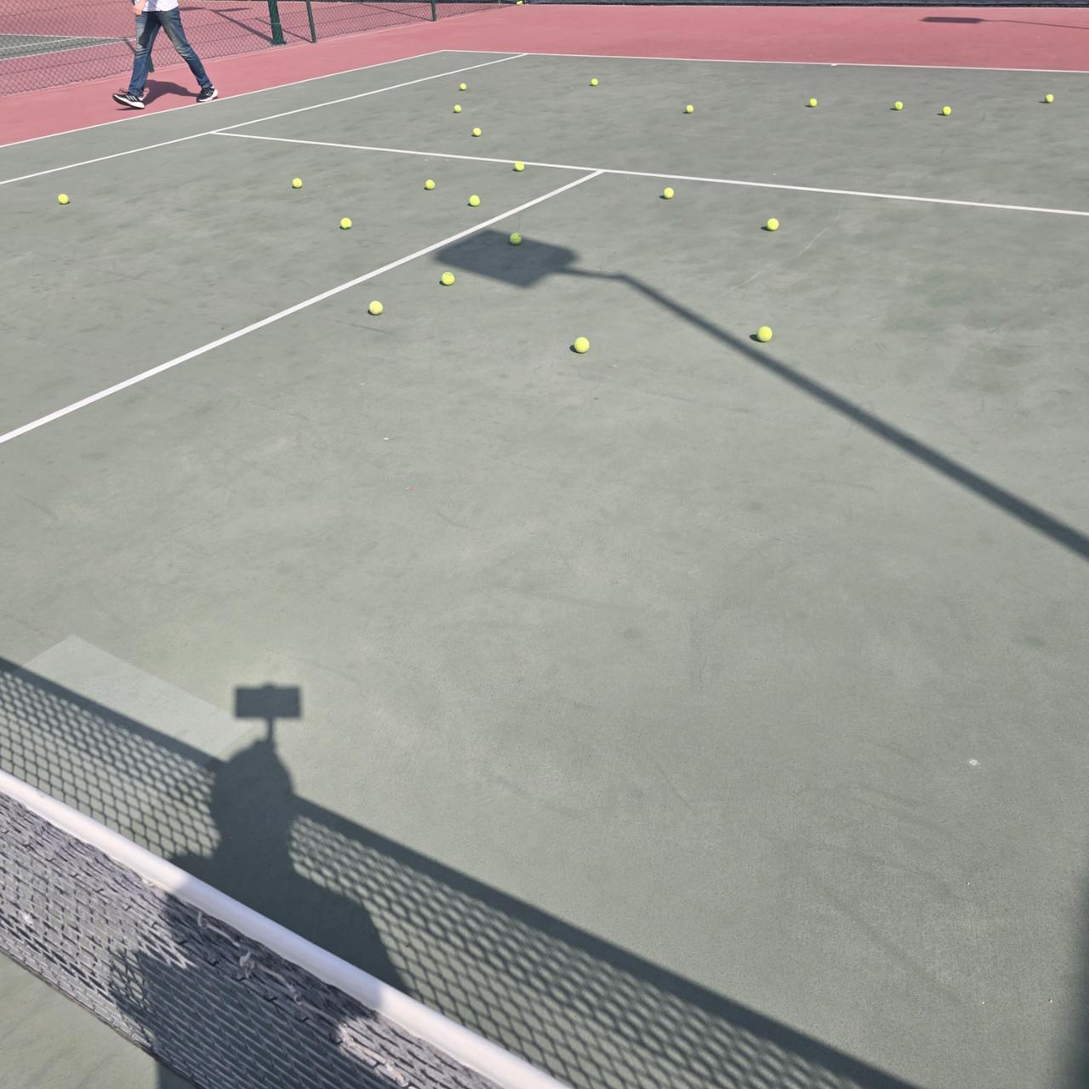tennis-ball: (571, 334, 590, 353), (755, 324, 773, 341), (366, 298, 383, 315), (438, 270, 454, 285), (764, 216, 778, 231), (508, 232, 523, 246), (660, 185, 674, 198), (339, 217, 352, 231), (57, 194, 70, 207), (468, 194, 481, 207), (290, 175, 302, 188), (513, 162, 525, 173), (424, 180, 435, 191), (941, 106, 952, 117), (808, 97, 818, 108), (894, 100, 904, 111), (1045, 93, 1054, 104), (472, 127, 481, 137), (685, 104, 694, 114), (453, 104, 461, 113), (590, 78, 598, 86), (459, 83, 466, 91), (515, 1, 523, 5)
